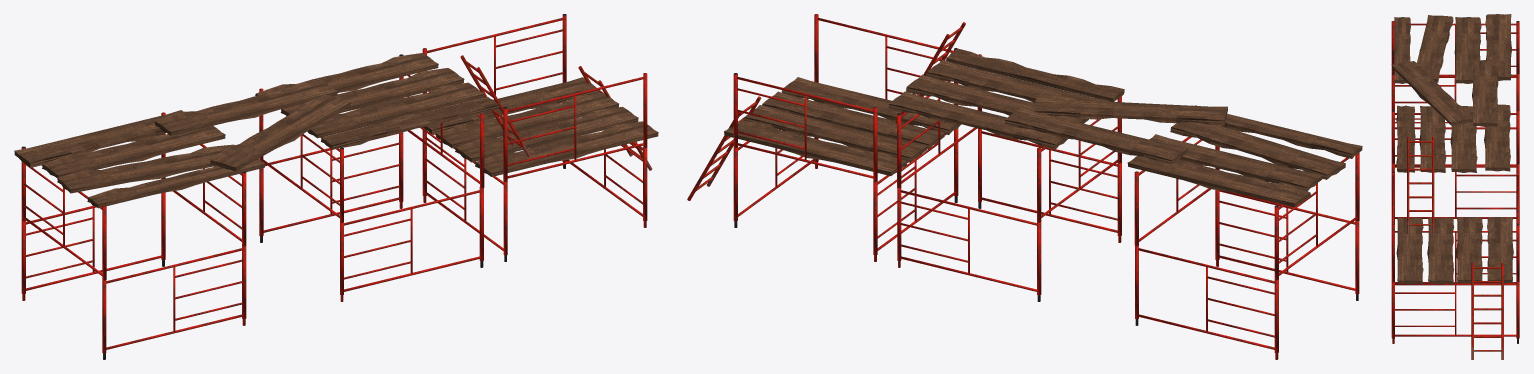
File: Andaime.glb
3 renders of one model, left to right at view 1: azimuth 30°, elevation 25°; view 2: azimuth 150°, elevation 25°; view 3: azimuth 270°, elevation 25°, orthographic. The views are drawn at different scales.
Parts seen in each view (by area): view 1: Wood.007, Wood.006, Wood.001, Wood.005, Wood.008, Wood.002, Wood.009, Wood.010, Wood, Wood.012, Wood.003, Cylinder.000 (+15 smaller); view 2: Wood.006, Wood.007, Wood, Wood.002, Wood.011, Wood.010, Wood.004, Wood.009, Wood.001, Wood.012, Wood.005, Wood.008 (+15 smaller); view 3: Wood.006, Wood.007, Wood.009, Wood.008, Wood.010, Wood.011, Cylinder.009, Wood.001, Wood.002, Wood.005, Wood, Wood.004 (+12 smaller).
Part boxes in pixels (box(x1,y1,x2,y2)): Wood.007: box(154, 80, 338, 135); Wood.006: box(209, 94, 350, 171); Wood.001: box(42, 126, 225, 178); Wood.005: box(307, 82, 484, 138); Wood.008: box(475, 121, 658, 176); Wood.002: box(57, 144, 234, 193); Wood.009: box(455, 106, 638, 162); Wood.010: box(436, 92, 618, 148); Wood: box(14, 110, 182, 167); Wood.012: box(321, 97, 499, 149); Wood.003: box(280, 68, 464, 116); Cylinder.000: box(102, 245, 246, 359); Wood.006: box(1033, 97, 1227, 125); Wood.007: box(1004, 107, 1187, 164); Wood: box(1127, 156, 1310, 207); Wood.002: box(1170, 122, 1345, 179); Wood.011: box(724, 120, 907, 175); Wood.010: box(744, 105, 927, 162); Wood.004: box(888, 91, 1067, 149); Wood.009: box(762, 91, 945, 149); Wood.001: box(1149, 134, 1322, 191); Wood.012: box(946, 48, 1124, 101); Wood.005: box(926, 60, 1109, 102); Wood.008: box(781, 77, 961, 134); Wood.006: box(1391, 61, 1472, 125); Wood.007: box(1472, 60, 1498, 126); Wood.009: box(1427, 217, 1454, 284); Wood.008: box(1396, 217, 1423, 284); Wood.010: box(1456, 217, 1482, 283); Wood.011: box(1487, 217, 1513, 283); Cylinder.009: box(1391, 282, 1519, 343); Wood.001: box(1454, 17, 1481, 83); Wood.002: box(1417, 15, 1453, 82); Wood.005: box(1419, 106, 1446, 172); Wood: box(1485, 14, 1512, 80); Wood.004: box(1484, 104, 1510, 171).
Bounding box in the file's own units: 13.16 × 3.92 × 3.09.
3 materials, 3 textured.
